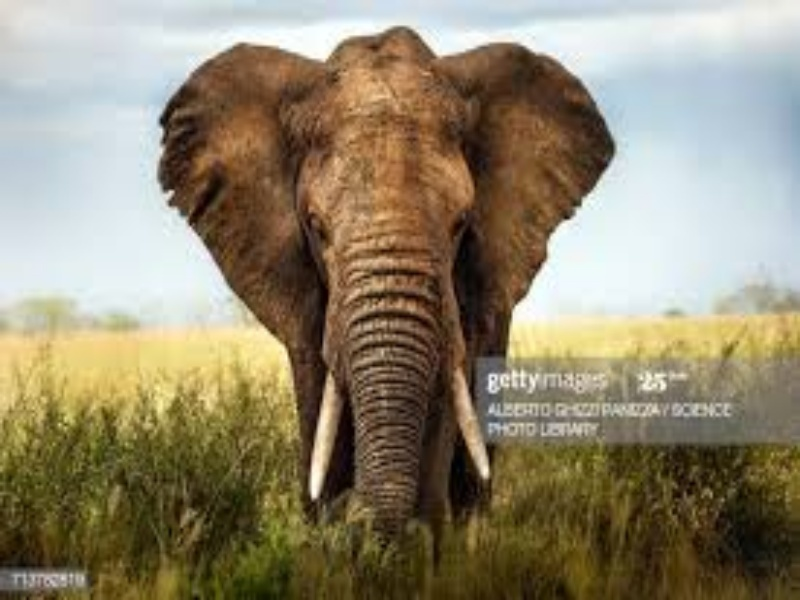elephant: (145, 23, 621, 575)
